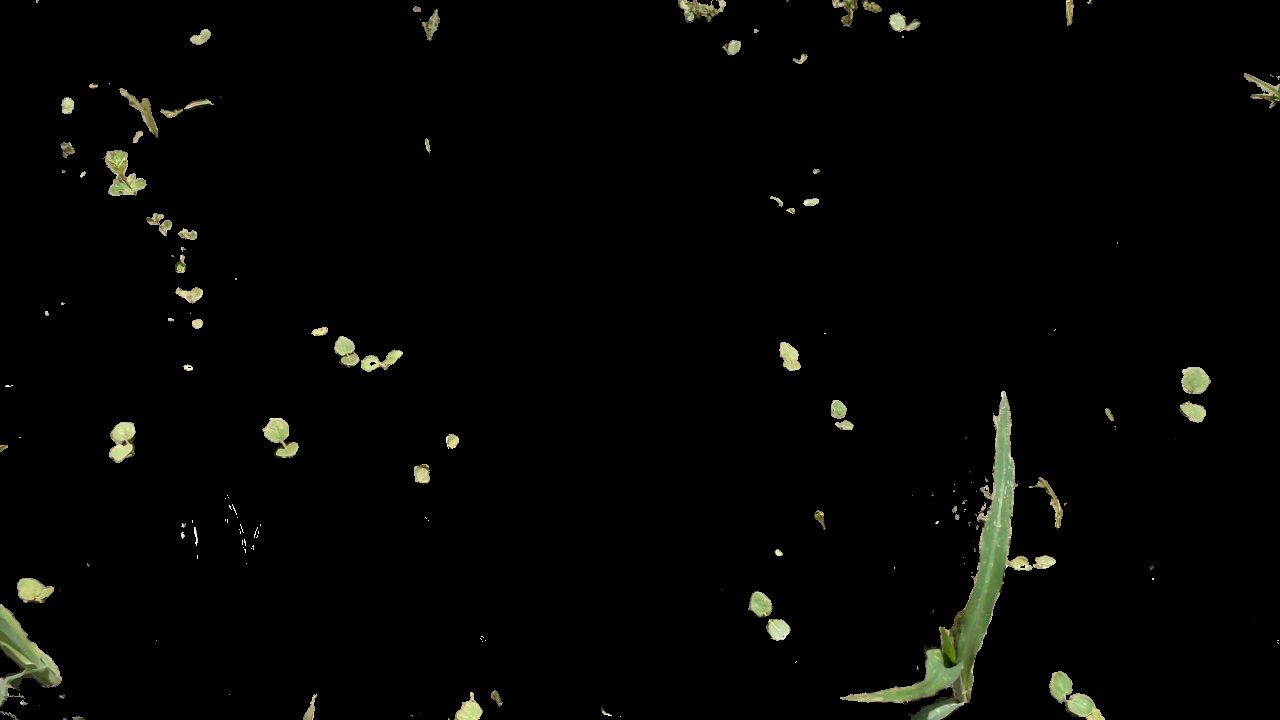crop: (856, 392, 1018, 715)
weed: (1166, 364, 1223, 436), (745, 579, 798, 641), (97, 150, 160, 201), (1049, 669, 1101, 720), (102, 420, 153, 470), (336, 340, 409, 372), (250, 421, 310, 459), (9, 569, 61, 604), (890, 8, 923, 41), (780, 340, 807, 378), (172, 284, 216, 302), (60, 95, 84, 119)
